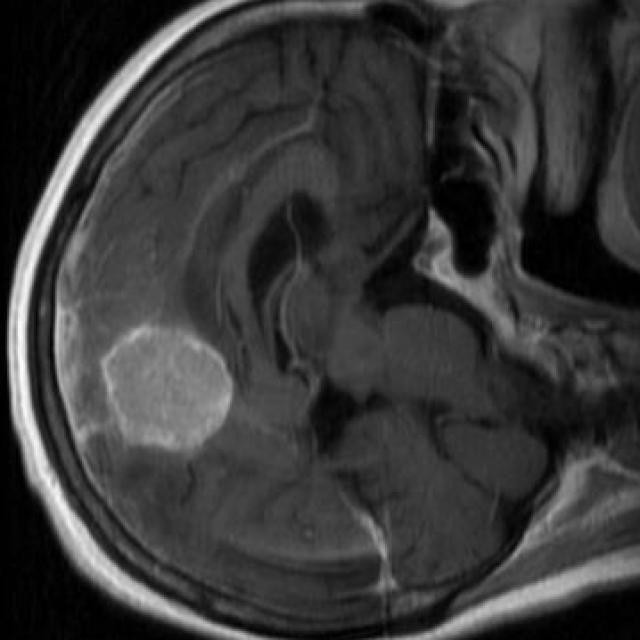meningioma: (102, 324, 235, 455)
